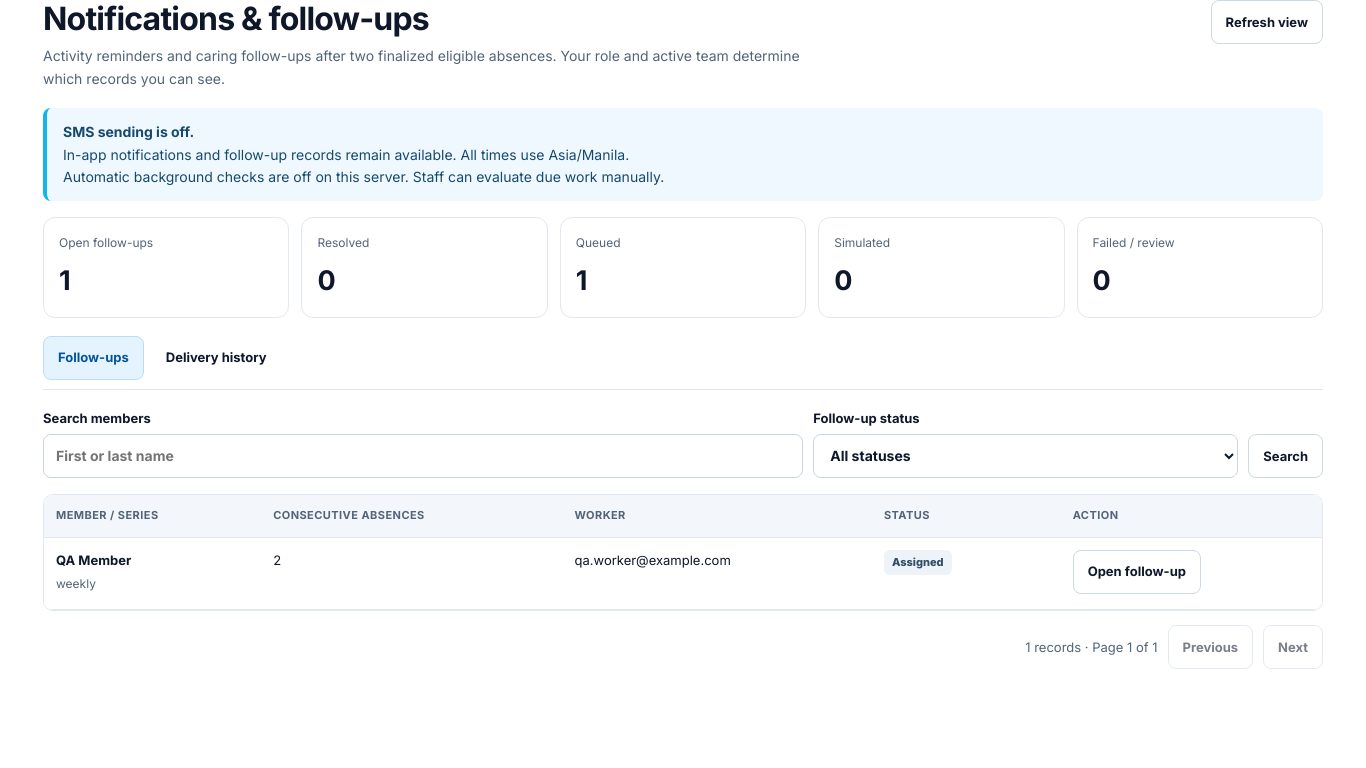
Scenario: keeps combined Leader context read-only and hides staff configuration and consent tabs
Click the button "Open follow-up" at [1137, 572], box top-left (1073, 550), bottom-right (1201, 594)
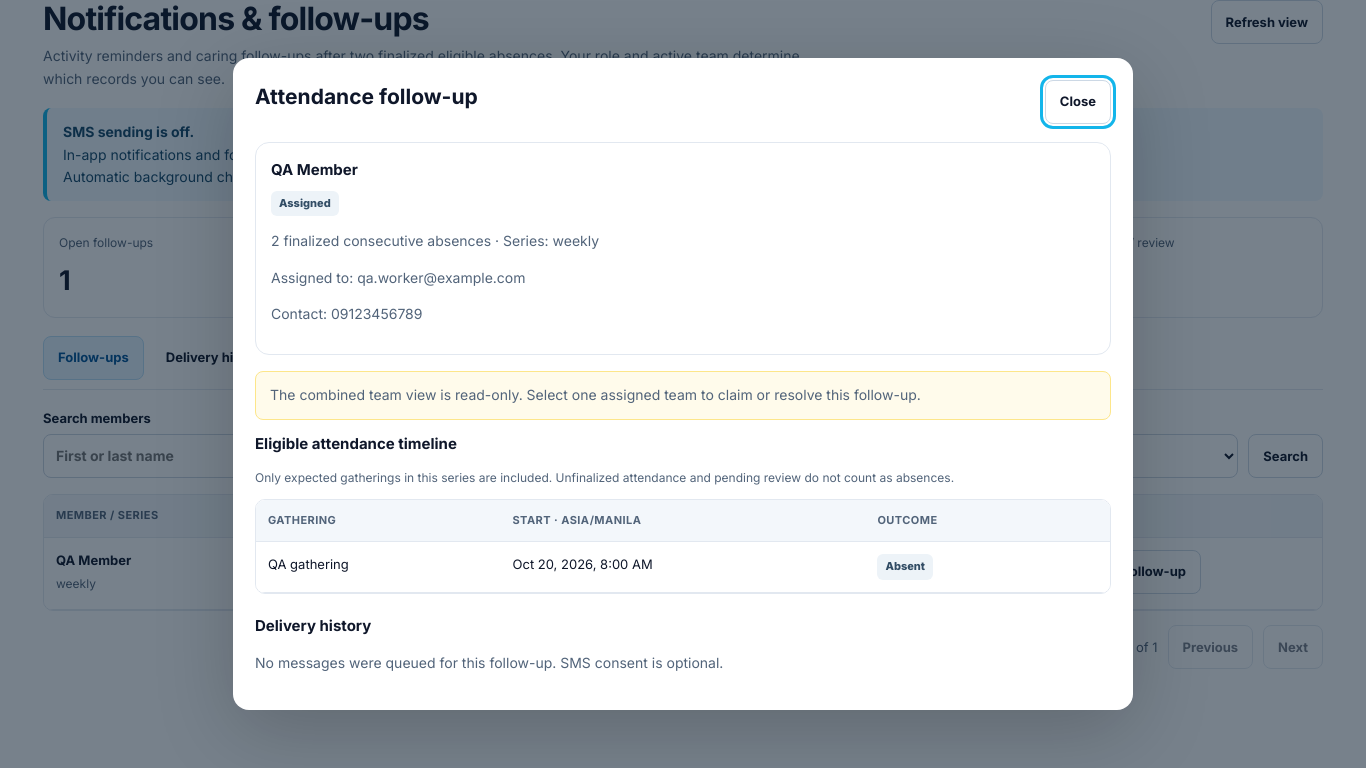
Expected: the text "combined team view is read-only" is shown, top-left (270, 386), bottom-right (921, 403)
